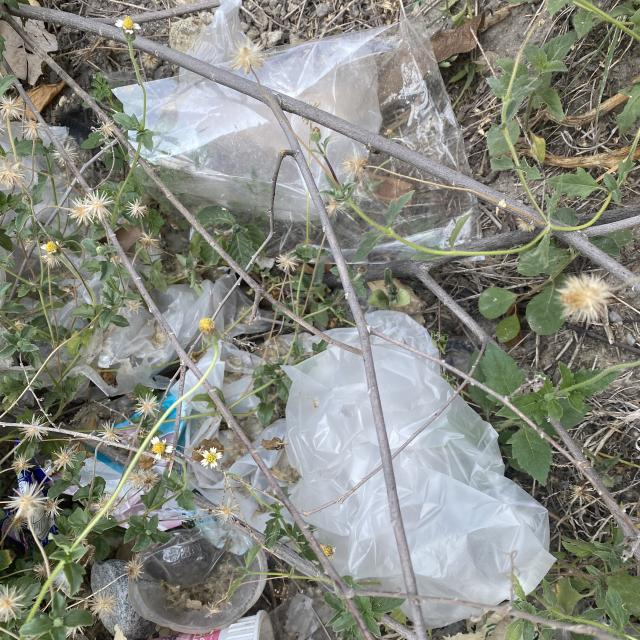Single-layer Plastic: (259, 16, 470, 175), (394, 396, 554, 605), (145, 69, 288, 229), (319, 128, 479, 248), (284, 346, 380, 511), (306, 472, 405, 591), (371, 338, 454, 451), (188, 0, 246, 69)
